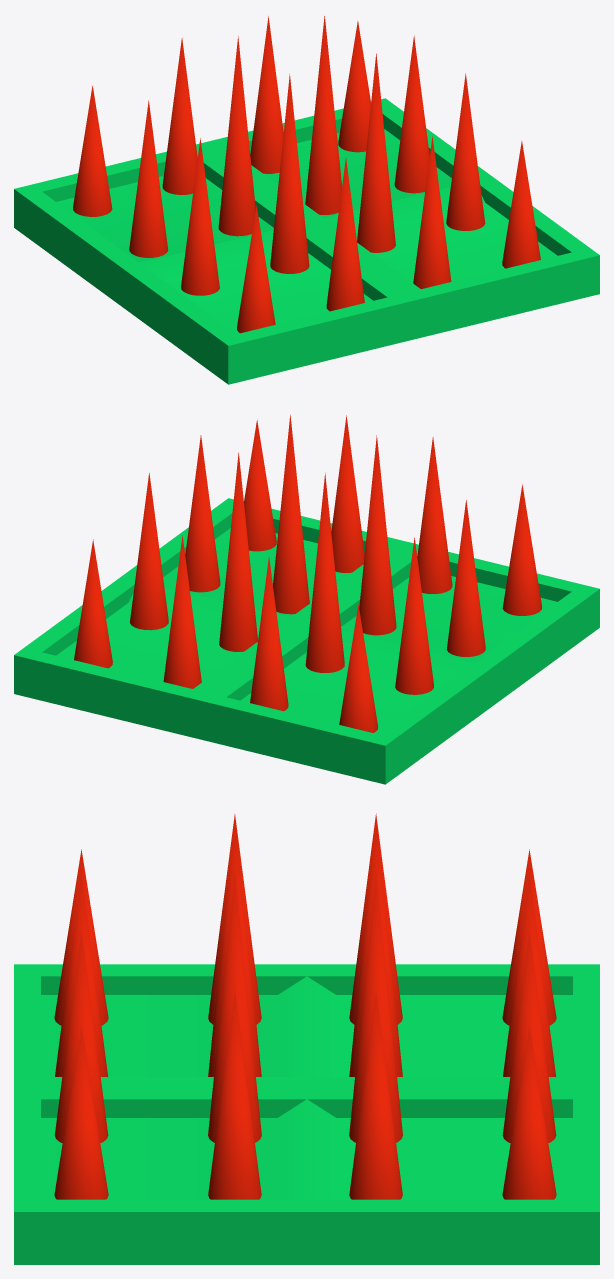
Rendered from Spike_Trap.fbx.
The picture shows the model from 3 angles, top to bottom: view 1: azimuth 30°, elevation 25°; view 2: azimuth 150°, elevation 25°; view 3: azimuth 270°, elevation 25°; orthographic projection. The views are drawn at different scales.
Visible parts, largest first — view 1: Base, Spikes; view 2: Base, Spikes; view 3: Base, Spikes.
Boxes of the visible parts, bbox=[...] form: Base: bbox=[14, 98, 599, 384]; Spikes: bbox=[73, 16, 540, 333]; Base: bbox=[14, 498, 599, 784]; Spikes: bbox=[74, 414, 541, 732]; Base: bbox=[14, 964, 599, 1264]; Spikes: bbox=[54, 813, 556, 1199].
Bounding box in the file's own units: 2 × 1.12 × 2.
